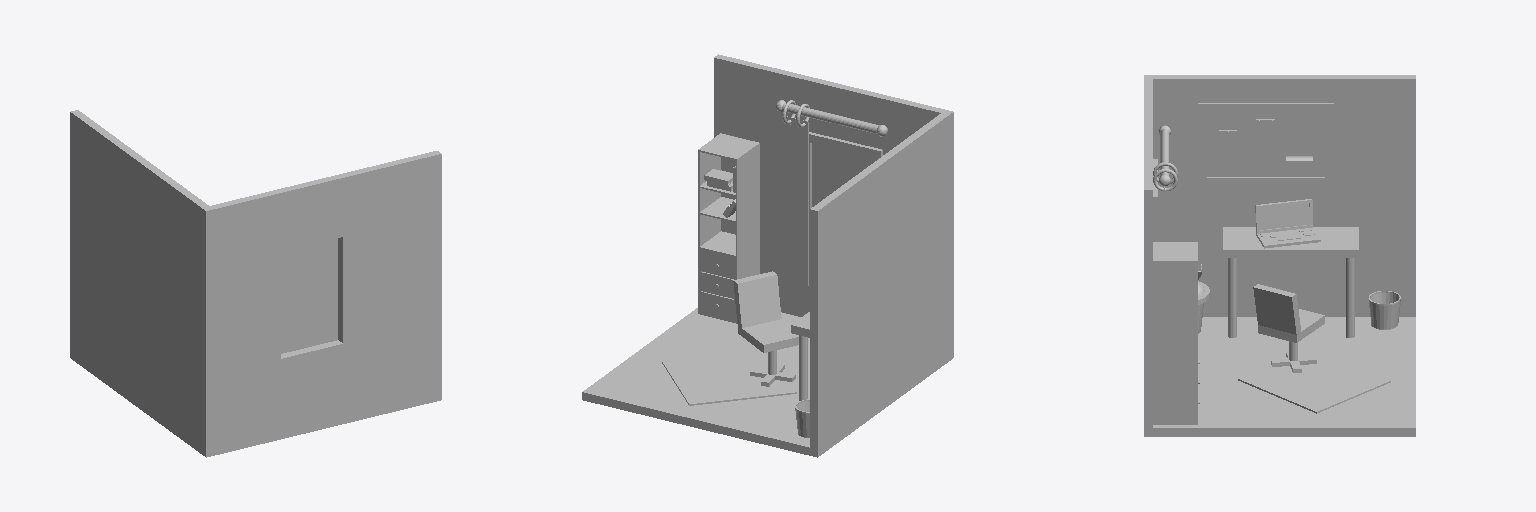
File: room.obj
3 views of the same model, side by side, from view 1: azimuth 30°, elevation 25°; view 2: azimuth 150°, elevation 25°; view 3: azimuth 270°, elevation 25° (orthographic).
Visible parts, largest first — view 1: group_0.002_ID20, group_1.002_ID49, group_0_ID4, group_0.003_ID28; view 2: group_0.002_ID20, group_0_ID4, group_0.001_ID12, group_25_ID438, group_24_ID350, group_23_ID329, group_25.001_ID444, group_1.002_ID49, group_25.002_ID450, group_31.002_ID487, group_31.001_ID481, group_2_ID58 (+2 smaller); view 3: group_0.001_ID12, group_0_ID4, group_25_ID438, group_32.013_ID584, group_24_ID350, group_32_ID500, group_3.003_ID87, group_31.001_ID481, group_33.002_ID603, group_33_ID591, group_32.011_ID572, group_32.002_ID512 (+3 smaller).
Part boxes in pixels (x1,y1,x2,y2): group_0.002_ID20: (70, 112, 441, 457); group_1.002_ID49: (281, 238, 337, 353); group_0_ID4: (71, 110, 440, 210); group_0.003_ID28: (281, 237, 342, 358); group_0.002_ID20: (818, 112, 953, 456); group_0_ID4: (582, 54, 952, 457); group_0.001_ID12: (714, 58, 940, 316); group_25_ID438: (698, 133, 759, 323); group_24_ID350: (662, 350, 796, 405); group_23_ID329: (785, 116, 808, 285); group_25.001_ID444: (700, 152, 735, 255); group_1.002_ID49: (812, 143, 872, 206); group_25.002_ID450: (701, 253, 733, 319); group_31.002_ID487: (738, 275, 781, 327); group_31.001_ID481: (733, 271, 798, 352); group_2_ID58: (776, 100, 887, 136); group_0.001_ID12: (1153, 79, 1415, 316); group_0_ID4: (1144, 75, 1415, 436); group_25_ID438: (1153, 242, 1197, 424); group_32.013_ID584: (1207, 112, 1324, 176); group_24_ID350: (1238, 347, 1390, 413); group_32_ID500: (1198, 103, 1333, 185); group_3.003_ID87: (1223, 227, 1358, 257); group_31.001_ID481: (1253, 284, 1324, 342); group_33.002_ID603: (1259, 203, 1309, 229); group_33_ID591: (1255, 199, 1320, 248); group_32.011_ID572: (1256, 119, 1274, 163); group_32.002_ID512: (1286, 135, 1312, 161).
Bounding box in the file's own units: 3 × 3 × 3.